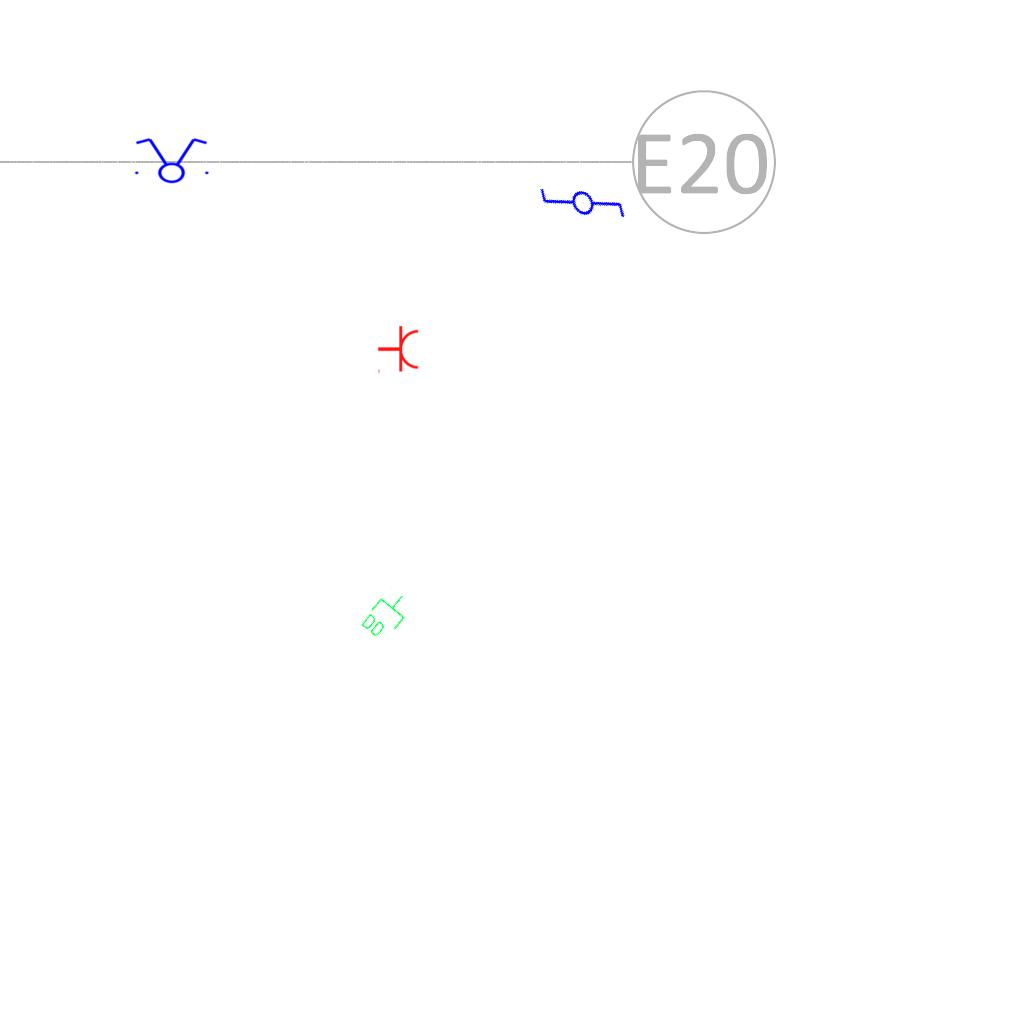Datenanschluss_zweifach: (357, 584, 416, 646)
Schukosteckdose_einfach: (377, 325, 420, 375)
Serienschalter: (129, 136, 213, 184)
Wechselschalter: (533, 155, 635, 259)
